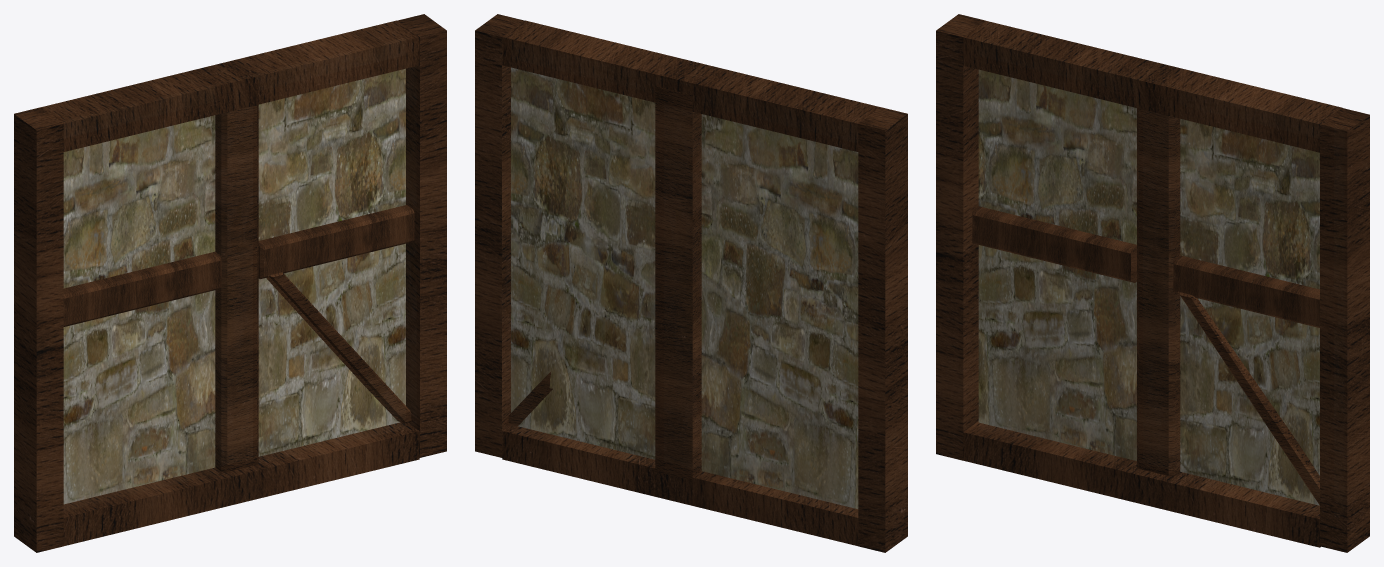
The model's file is BuildingWallTile.fbx.
3 renders of one model, left to right at view 1: azimuth 30°, elevation 25°; view 2: azimuth 150°, elevation 25°; view 3: azimuth 330°, elevation 25°, orthographic.
Parts seen in each view (by area): view 1: polySurface131; view 2: polySurface131; view 3: polySurface131.
Part boxes in pixels (x1=…): polySurface131: x1=14, y1=14, x2=446, y2=552; polySurface131: x1=475, y1=14, x2=907, y2=552; polySurface131: x1=936, y1=14, x2=1369, y2=552.
Size of the model in its own units: 3.7 by 3.65 by 0.3555.
2 materials, 2 textured.
